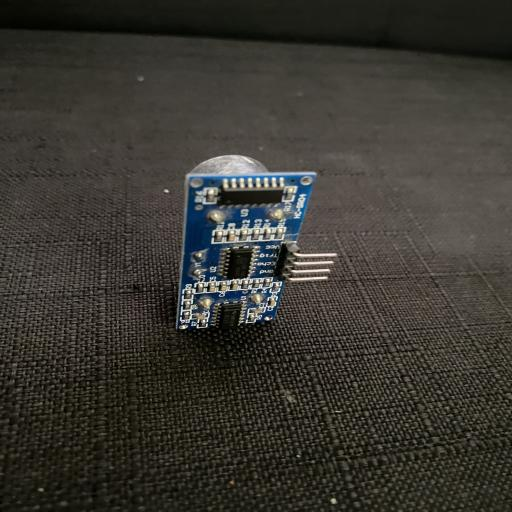Ultrasonic Sensor: (175, 153, 338, 332)
